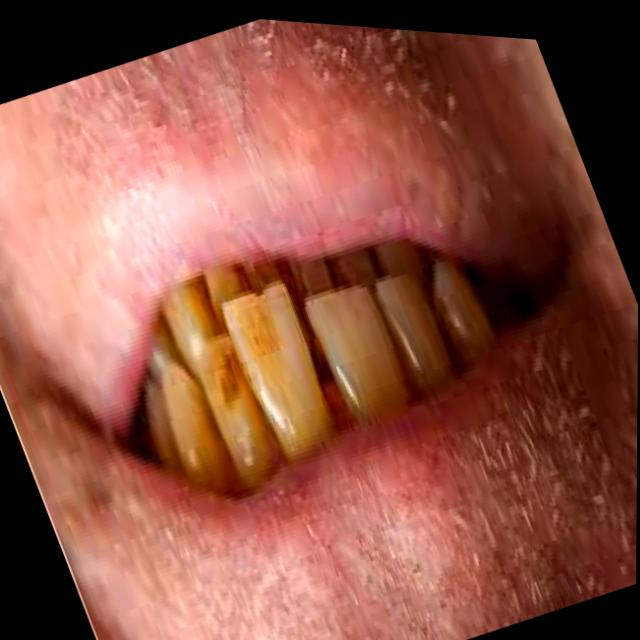tooth-discoloration: (165, 283, 274, 491), (222, 284, 333, 461), (153, 323, 233, 493)
